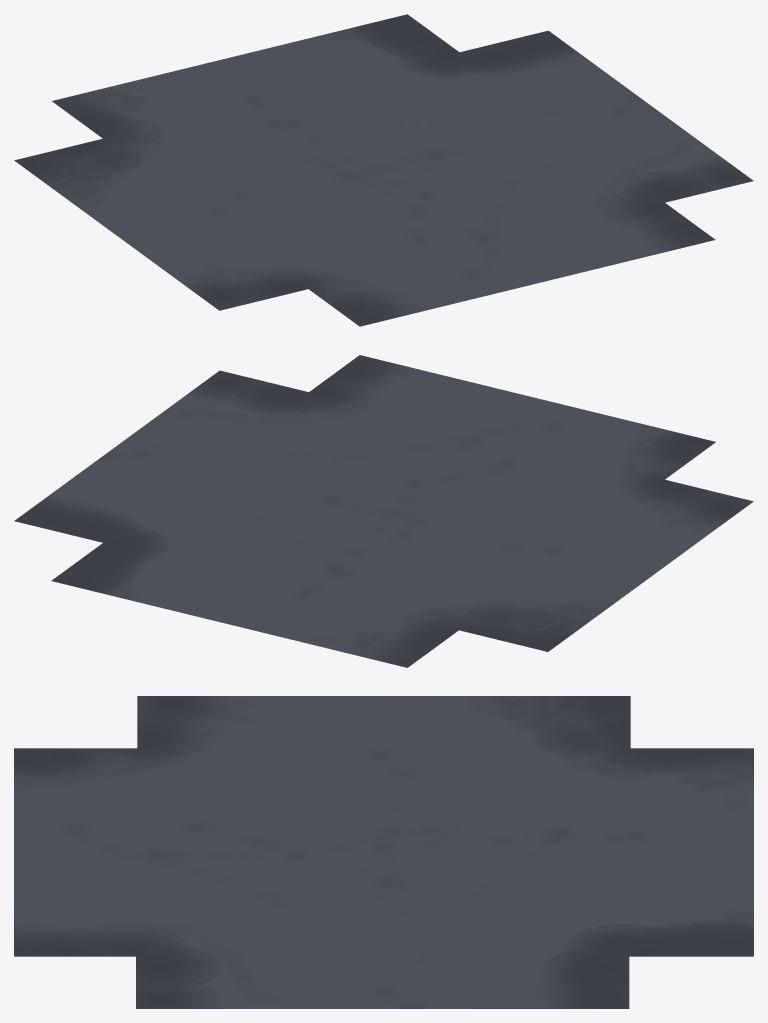
File: road-crossing-01.glb
3 views of the same model, one above another, from view 1: azimuth 30°, elevation 25°; view 2: azimuth 150°, elevation 25°; view 3: azimuth 270°, elevation 25° (orthographic). The views are drawn at different scales.
Visible parts, largest first — view 1: road-crossing-01; view 2: road-crossing-01; view 3: road-crossing-01.
Part boxes in pixels (<box>): road-crossing-01: <box>14,14,753,326</box>; road-crossing-01: <box>14,355,753,667</box>; road-crossing-01: <box>14,696,753,1008</box>.
Bounding box in the file's own units: 24 × 0 × 24.
1 material, 1 textured.
